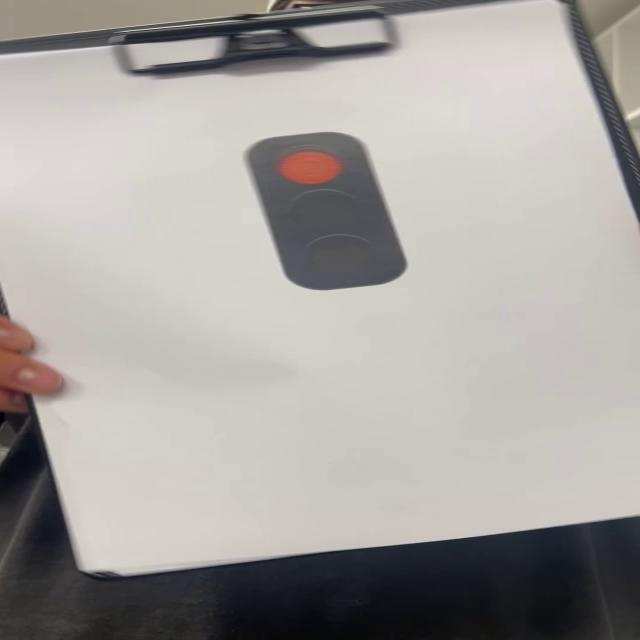red: (243, 132, 412, 292)
